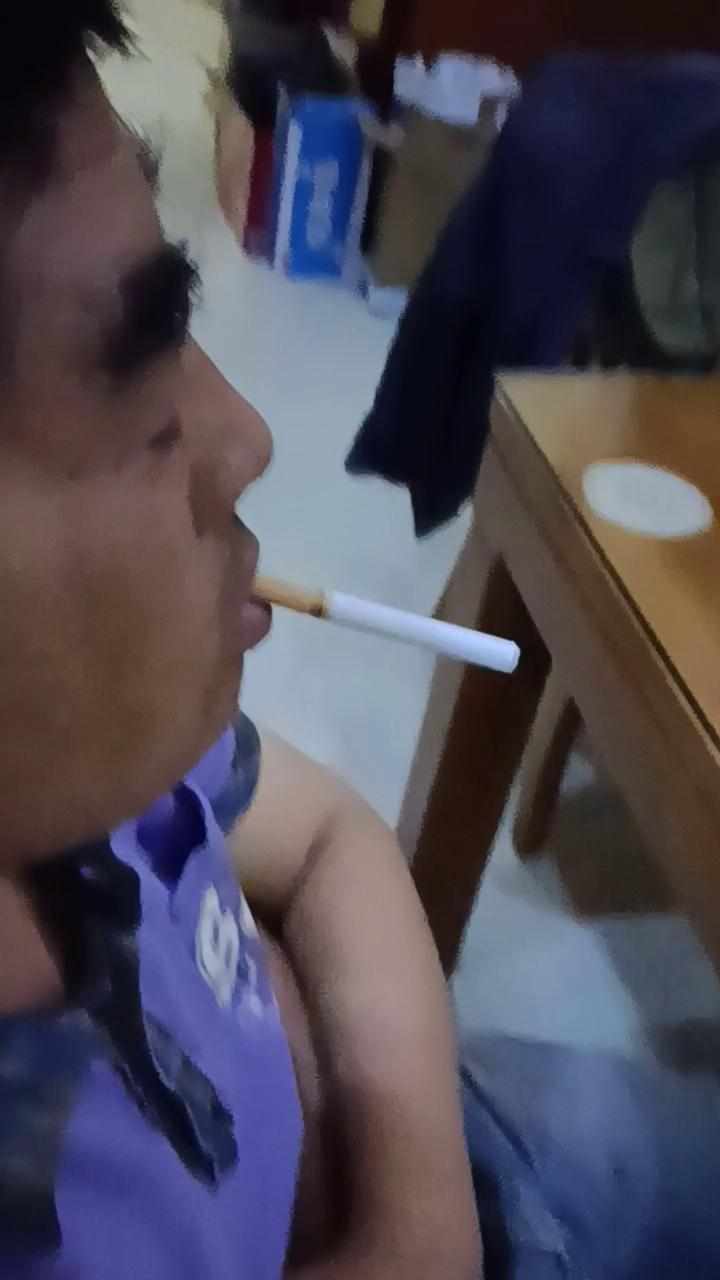smoke: (246, 572, 525, 676)
